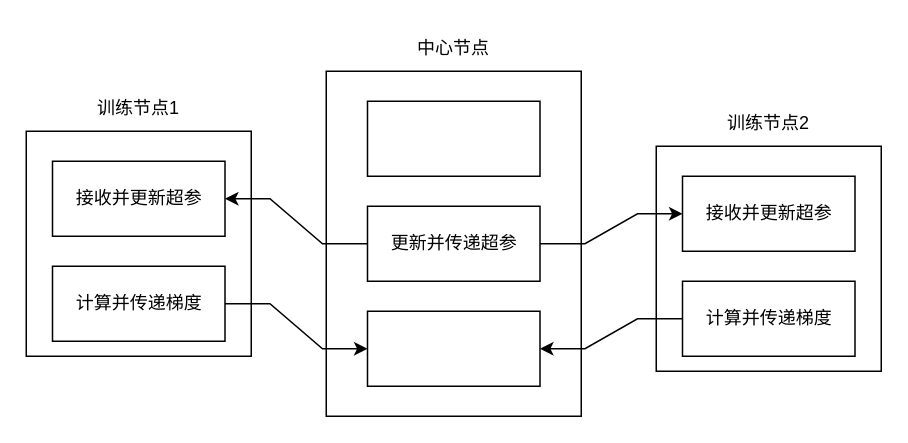
This 908x443 diagram has some shape labels left out. The shapes that lost their labels are listed below. From the top down, each one's box as (x1, y1, x2, y2) in pixels, then its label:
(366, 100, 540, 176): 贝叶斯优化器采样一组新的超参组合
(366, 310, 540, 386): 汇总梯度并更新模型参数
